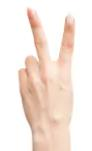front: (14, 4, 79, 130)
